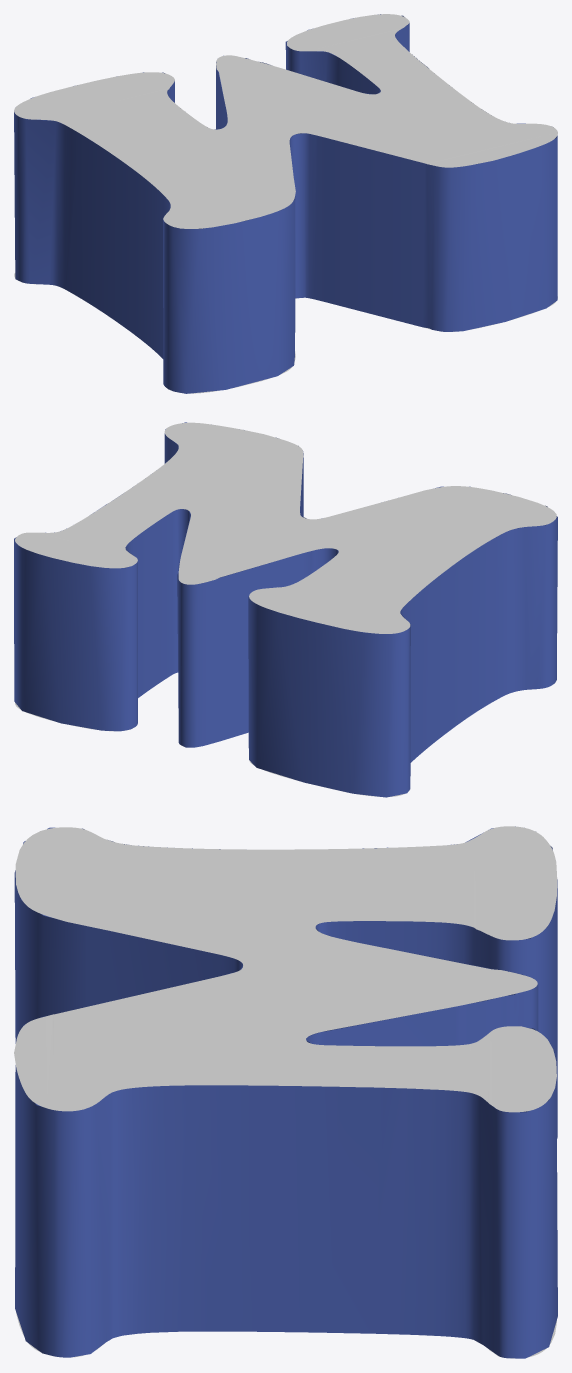
The picture shows the model from 3 angles, top to bottom: view 1: azimuth 30°, elevation 25°; view 2: azimuth 150°, elevation 25°; view 3: azimuth 270°, elevation 25°; orthographic projection. The views are drawn at different scales.
Visible parts, largest first — view 1: M; view 2: M; view 3: M.
Boxes of the visible parts, x1,y1,x2,y2 form: M: (14, 14, 557, 393); M: (14, 422, 557, 797); M: (14, 826, 557, 1358).
Bounding box in the file's own units: 1.84 × 0.7363 × 1.47.
